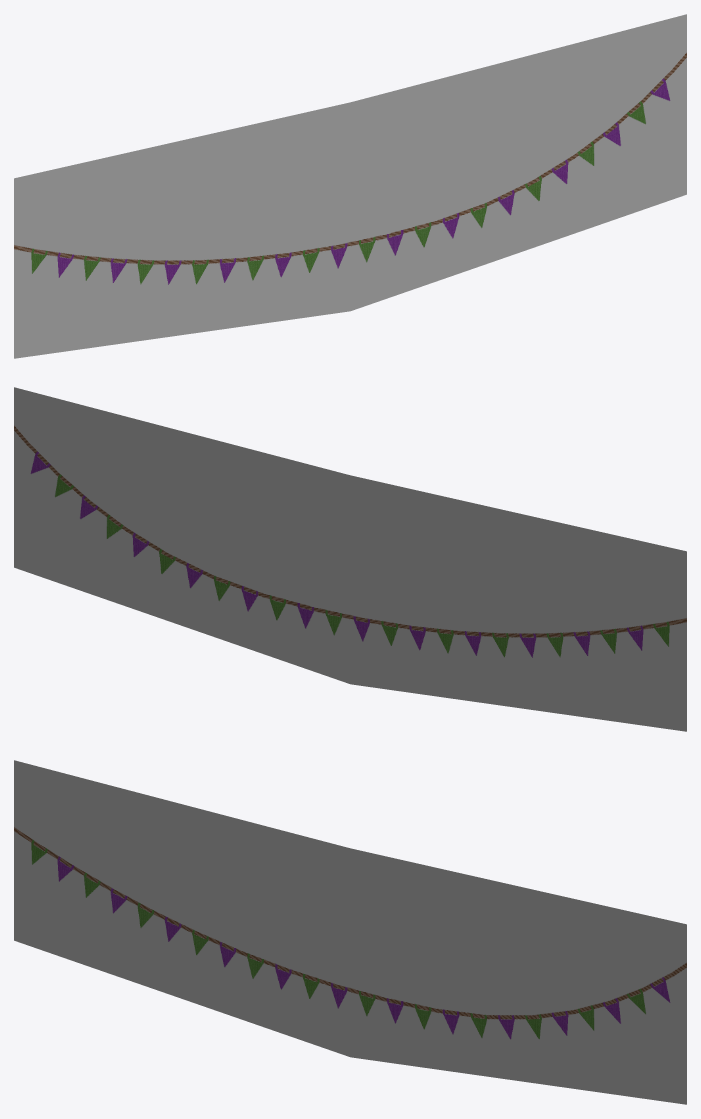
Rendered from SM_garland003.fbx.
3 views of the same model, one above another, from view 1: azimuth 30°, elevation 25°; view 2: azimuth 150°, elevation 25°; view 3: azimuth 330°, elevation 25° (orthographic).
Visible parts, largest first — view 1: SM_garland003; view 2: SM_garland003; view 3: SM_garland003.
Part boxes in pixels (box(x1,y1,x2,y2)): SM_garland003: box(14, 14, 686, 358); SM_garland003: box(14, 387, 686, 731); SM_garland003: box(14, 760, 686, 1104).
Size of the model in its own units: 793 by 242 by 1.84e-05.
Materials: 1 (1 with a texture image).
